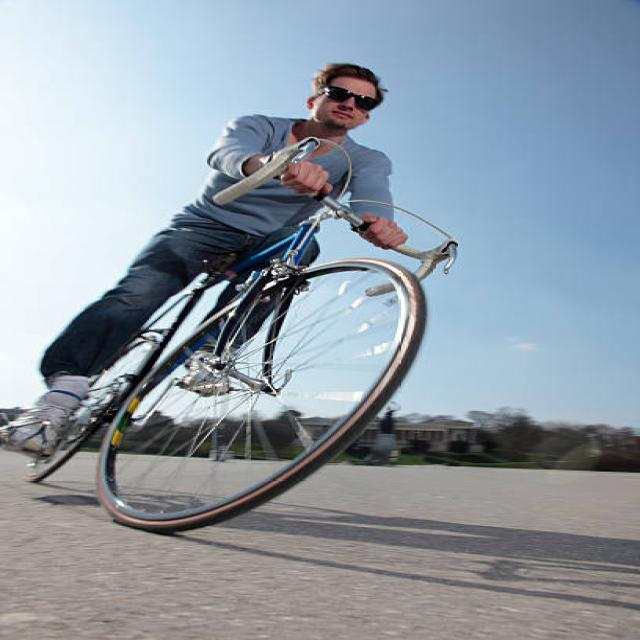bicycle: (2, 65, 458, 533)
